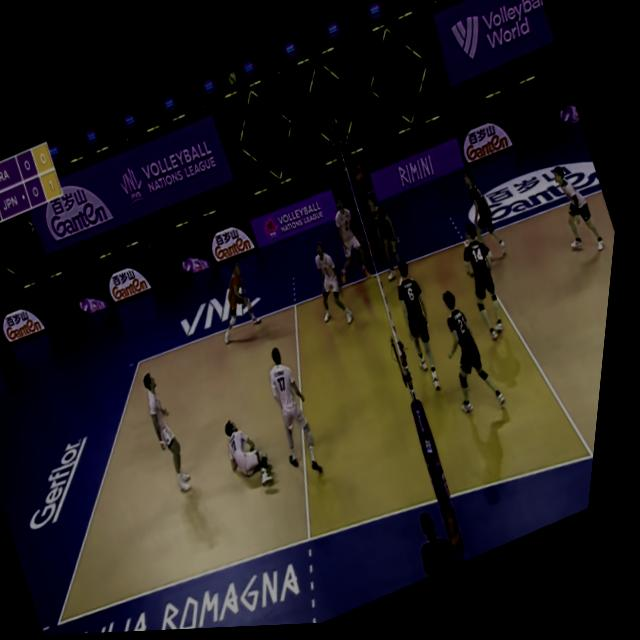player: (425, 276, 533, 432), (252, 339, 349, 491), (381, 253, 472, 403), (137, 365, 221, 507), (448, 216, 533, 352), (540, 155, 622, 269), (451, 158, 525, 271), (298, 231, 373, 341), (315, 190, 387, 291), (218, 409, 294, 504), (358, 189, 426, 292), (203, 257, 276, 350)
